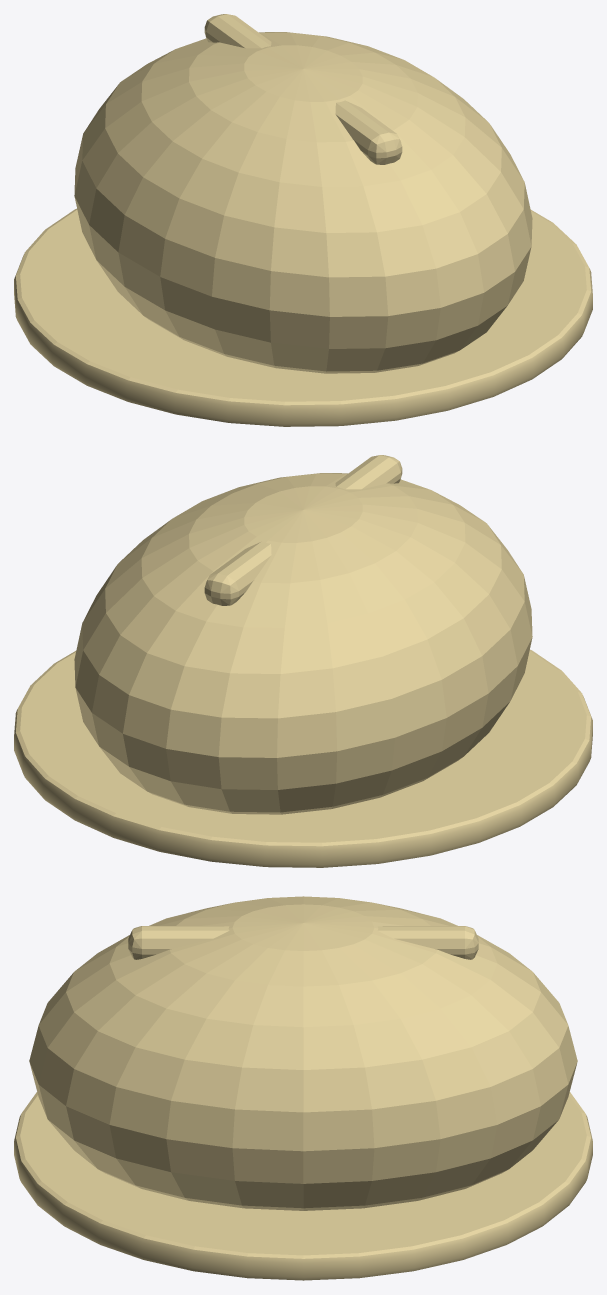
The model's file is F1_HardHat.fbx.
The picture shows the model from 3 angles, top to bottom: view 1: azimuth 30°, elevation 25°; view 2: azimuth 150°, elevation 25°; view 3: azimuth 270°, elevation 25°; orthographic projection.
Visible parts, largest first — view 1: F1_HardHat_LOD0; view 2: F1_HardHat_LOD0; view 3: F1_HardHat_LOD0.
Part boxes in pixels (x1,y1,x2,y2): F1_HardHat_LOD0: (14, 14, 592, 426); F1_HardHat_LOD0: (14, 455, 592, 867); F1_HardHat_LOD0: (14, 896, 592, 1280).
Size of what is drawn, in the model's own units: 38 by 20 by 38.
